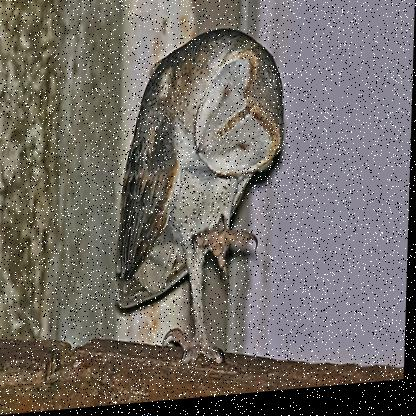Burung: (116, 26, 289, 367)
